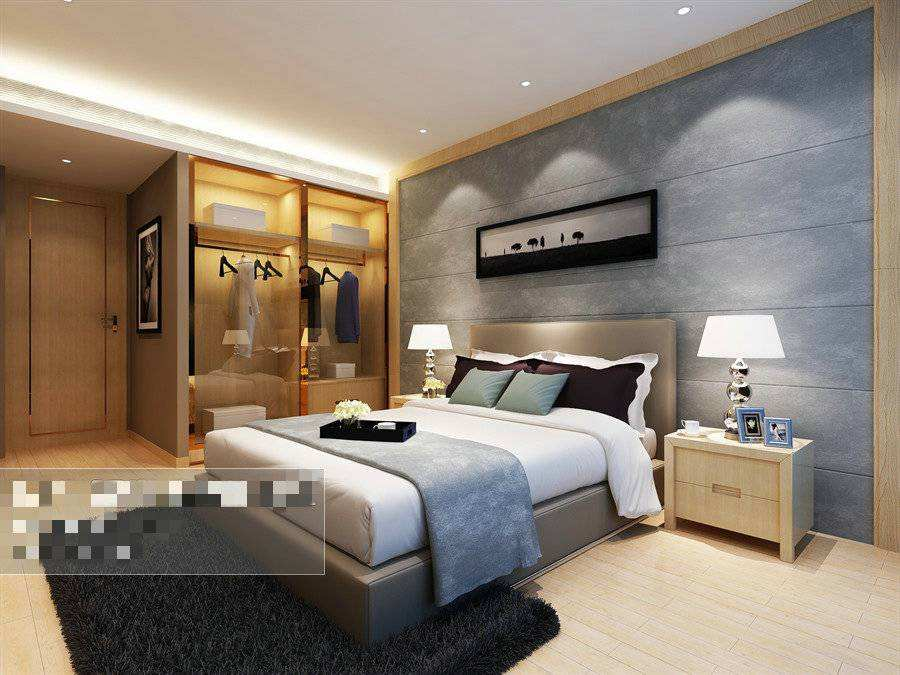床: (209, 401, 644, 600)
枕头: (434, 349, 656, 425)
灯: (701, 307, 794, 432), (401, 322, 456, 398), (52, 152, 75, 170), (516, 76, 540, 93), (677, 3, 696, 21), (413, 126, 433, 141)
